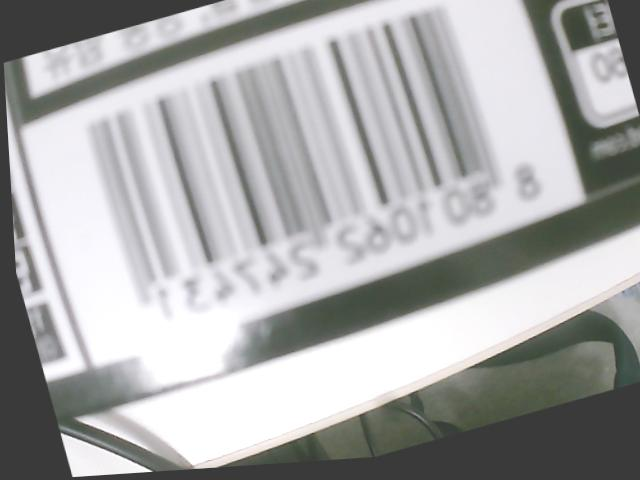chickchok-3400-2025-9-10: (61, 0, 557, 335)
